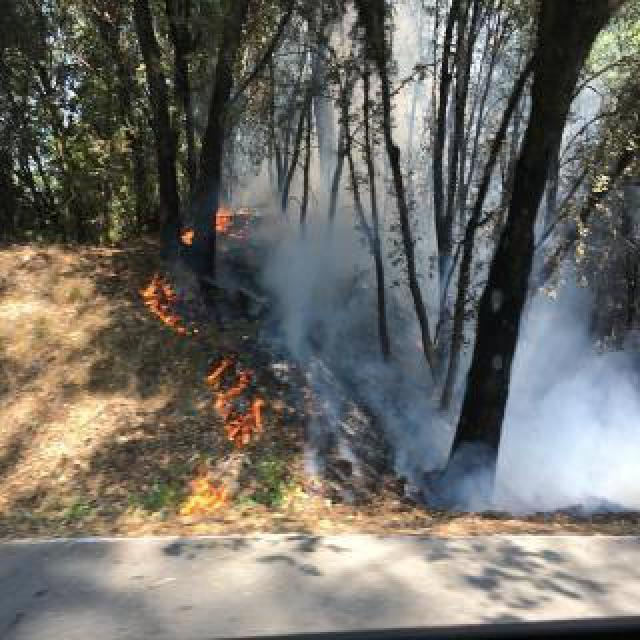Fire: (182, 358, 268, 518), (136, 264, 198, 338), (208, 208, 238, 236)
Smoke: (260, 198, 432, 522), (434, 258, 636, 516)
